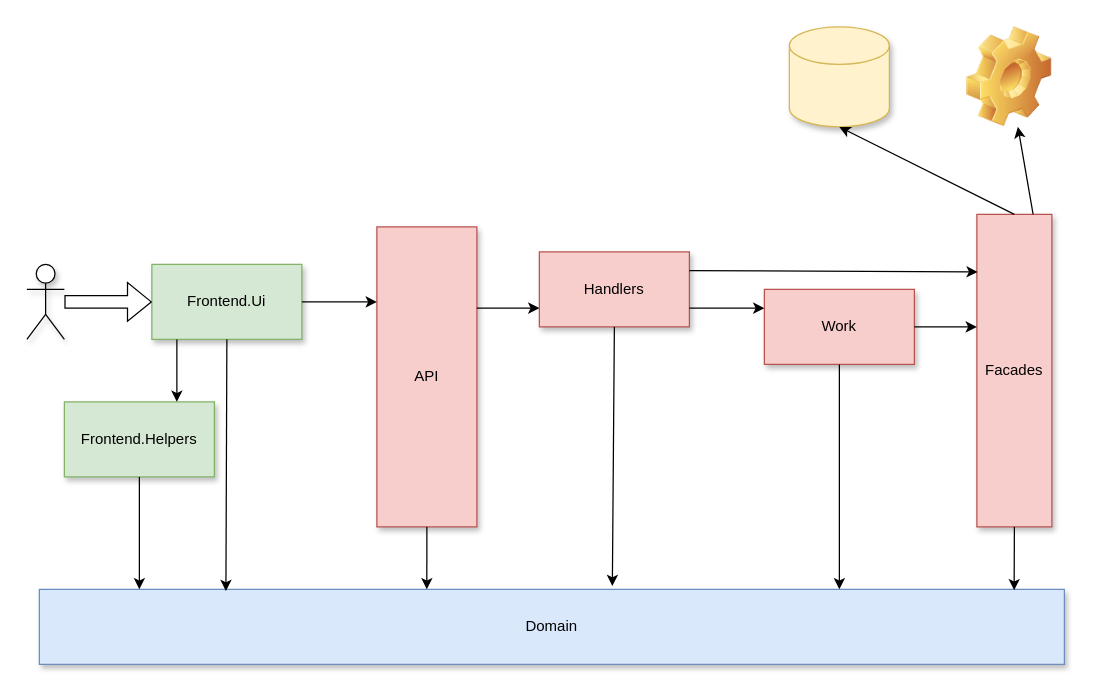
Some shapes in this 1094 by 695 pixel diagram are drawn without their labels. The centre of each missing label's shape, as x and y in pixels:
"Persistency" belongs at (x=840, y=78).
"SE dll" belongs at (x=1008, y=76).
"User" belongs at (x=46, y=303).
